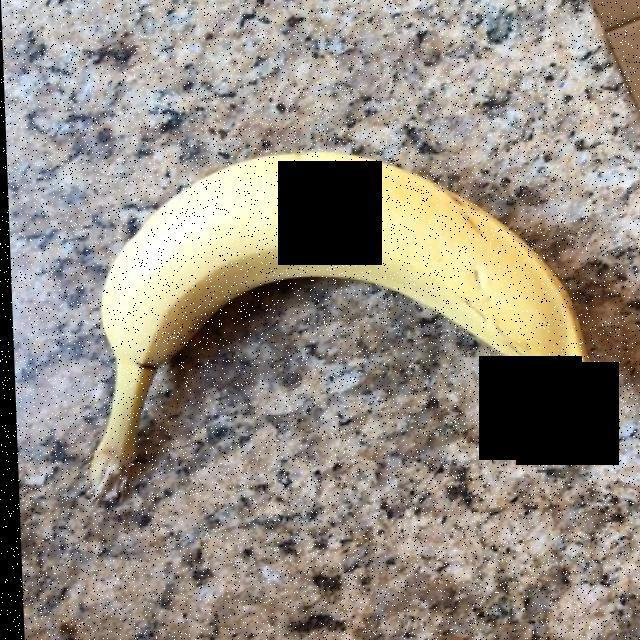banana: (94, 146, 576, 472)
